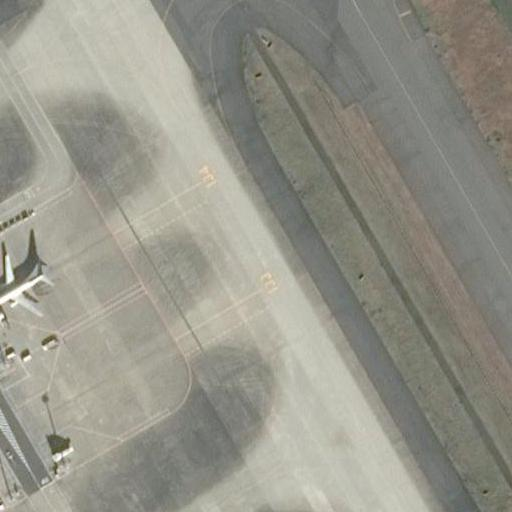Aircraft: (0, 237, 50, 320)
